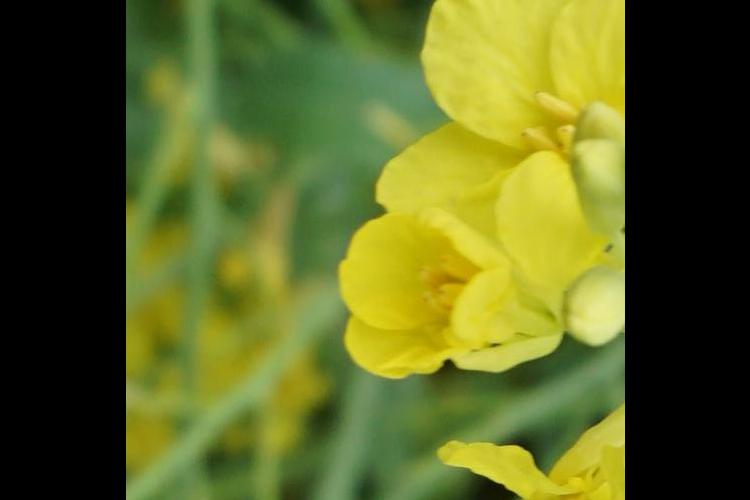bud: (572, 96, 618, 230), (567, 259, 624, 360)
yellow: (345, 135, 562, 358), (430, 1, 625, 147)
